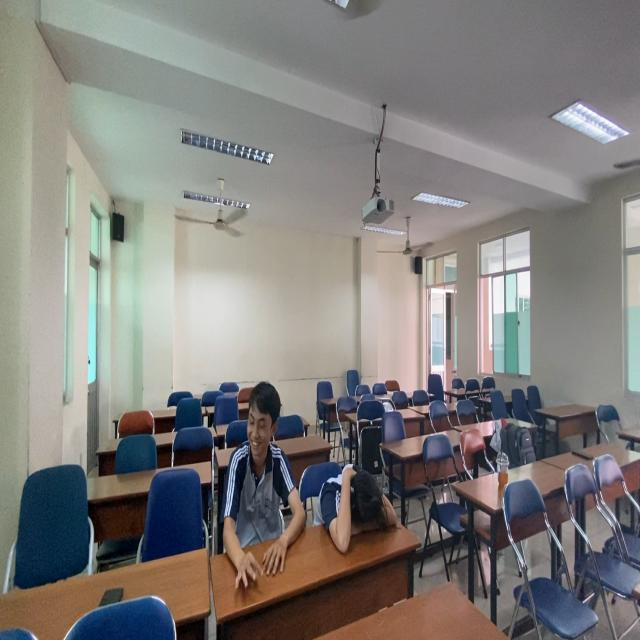sleep: (321, 461, 401, 556)
